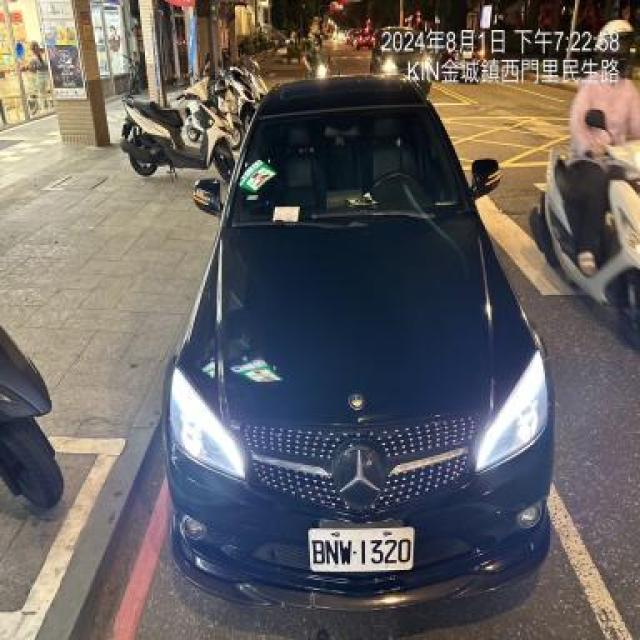Legalparking: (132, 64, 568, 629), (120, 88, 233, 180)
